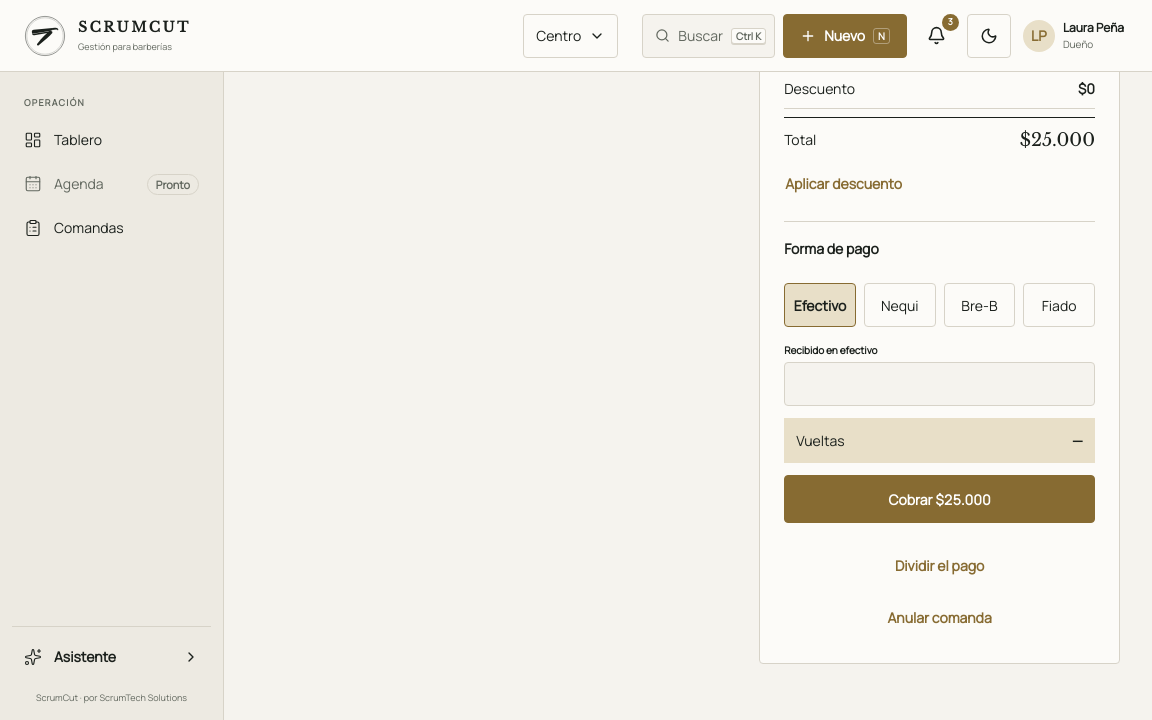
Test: cobro de una comanda › admite hasta tres partes, una de ellas a fiado con cliente
The width and height of the screenshot is (1152, 720).
(page scrolled)
Click the button "Dividir el pago": (940, 565) 886,543 -> 993,587
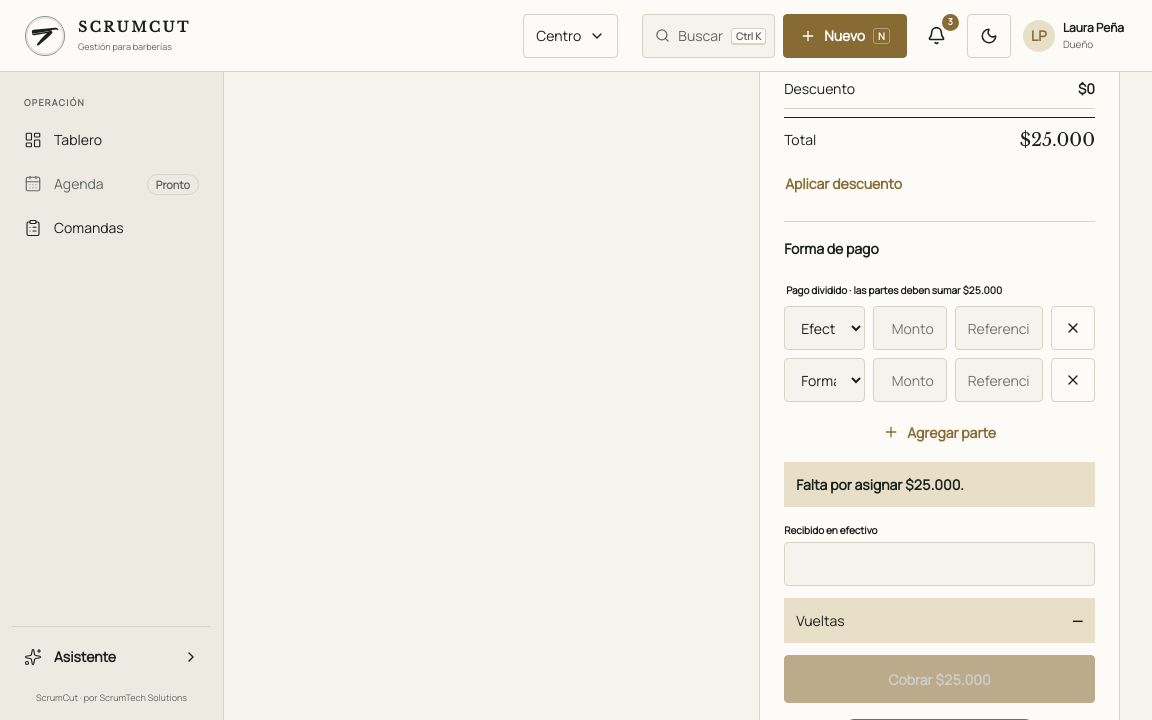
Click the button "Agregar parte": (940, 432) 784,410 -> 1095,454
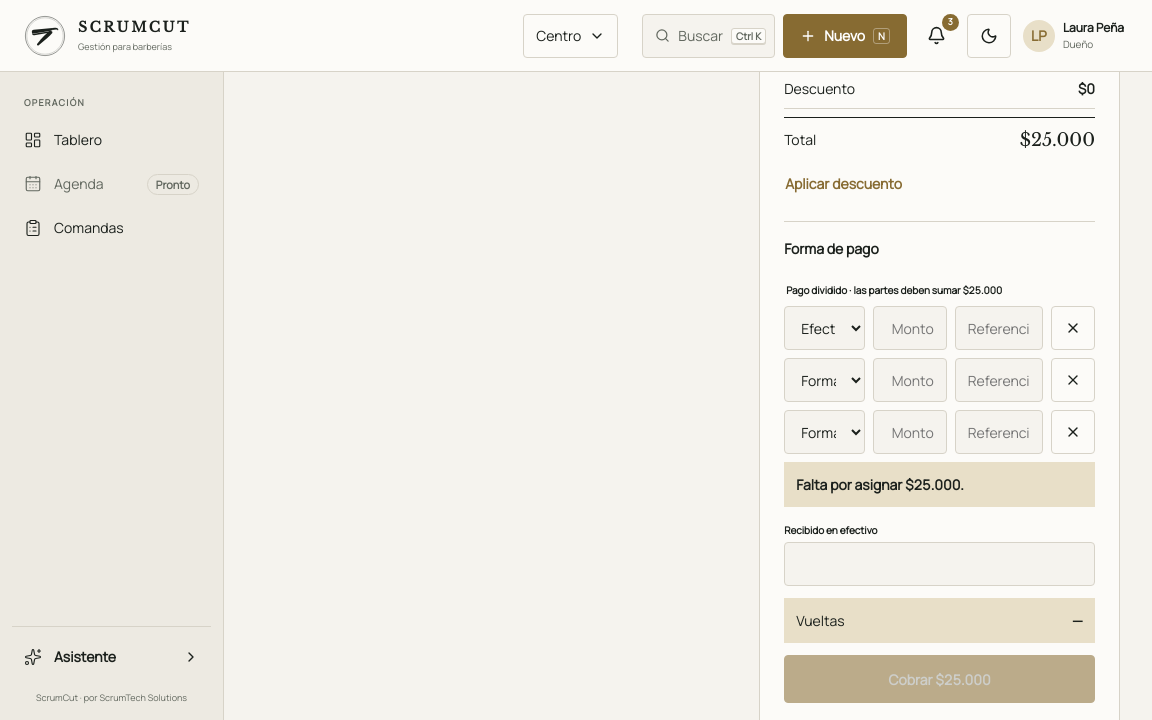
Check: the field named "Monto de la parte 3" is shown, box 873,410 -> 947,454
Check: the button "Agregar parte" is gone
